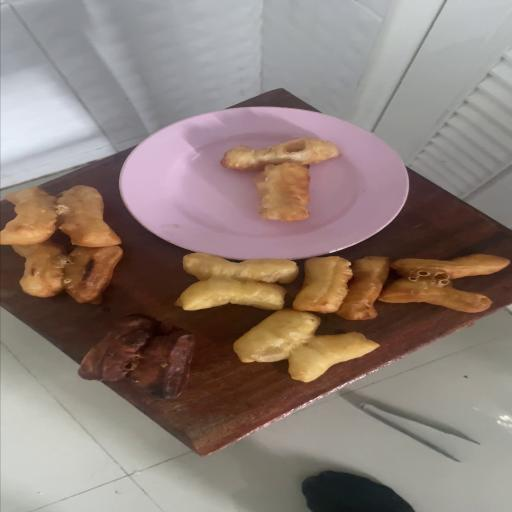street_burnt_defect: (77, 316, 191, 398), (7, 241, 122, 302)
street_golden_good: (176, 253, 300, 312), (1, 185, 120, 246)
